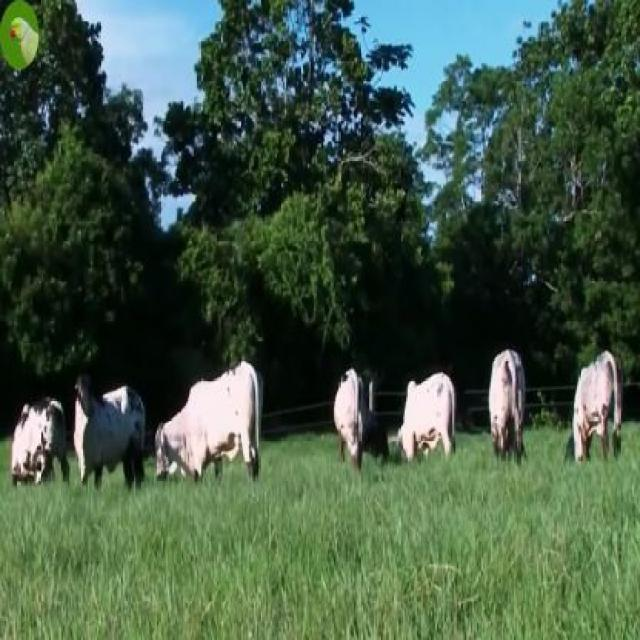Cow: (157, 360, 261, 488), (72, 380, 146, 488), (569, 349, 622, 465), (398, 372, 454, 465)
